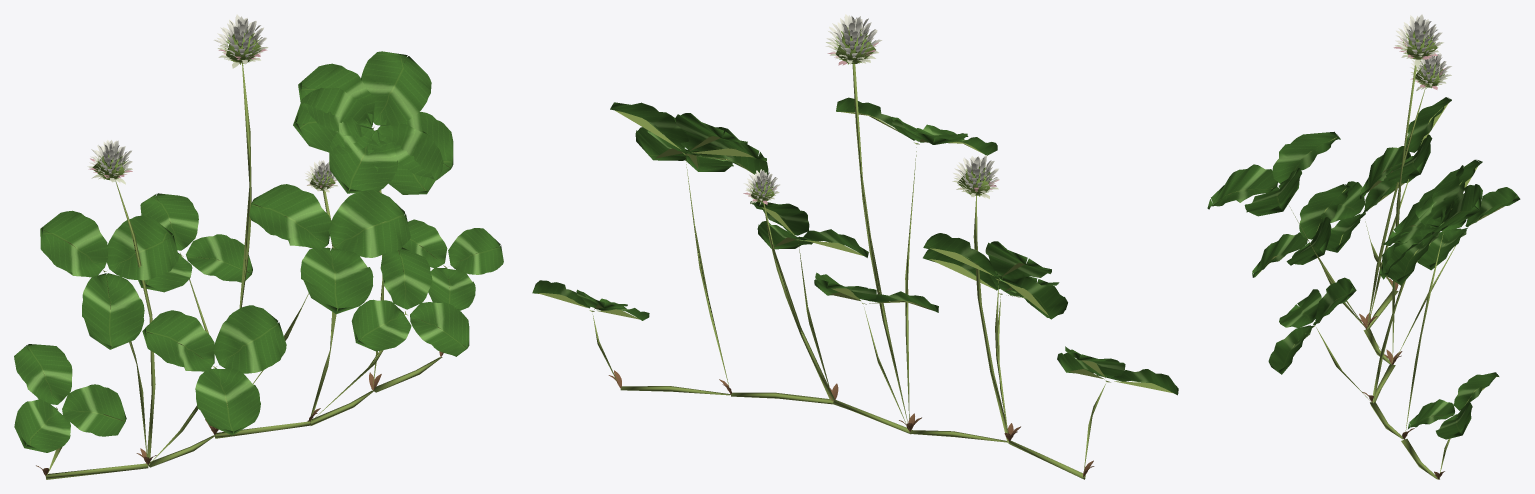
Rendered from white-clover.glb.
3 renders of one model, left to right at view 1: azimuth 30°, elevation 25°; view 2: azimuth 150°, elevation 25°; view 3: azimuth 270°, elevation 25°, orthographic. The views are drawn at different scales.
Parts seen in each view (by area): view 1: Trifoliate foliage, CloverLeafThree, CloverLeafFour, White pea-shaped florets, Flower peduncles, Creeping stolon, Leaf petioles, Flower receptacles; view 2: Trifoliate foliage, White pea-shaped florets, CloverLeafThree, Flower peduncles, CloverLeafFour, Leaf petioles, Creeping stolon, Flower receptacles; view 3: Trifoliate foliage, CloverLeafFour, CloverLeafThree, White pea-shaped florets, Flower peduncles, Leaf petioles, Creeping stolon, Flower receptacles, Papery stipules.
Part boxes in pixels (<box>): Trifoliate foliage: <box>14,184,503,452</box>; CloverLeafThree: <box>293,51,443,194</box>; CloverLeafFour: <box>298,63,453,193</box>; White pea-shaped florets: <box>87,14,337,192</box>; Flower peduncles: <box>115,63,336,464</box>; Creeping stolon: <box>45,357,442,479</box>; Leaf petioles: <box>47,190,384,474</box>; Flower receptacles: <box>92,33,335,190</box>; Trifoliate foliage: <box>532,97,1178,395</box>; White pea-shaped florets: <box>743,14,999,204</box>; CloverLeafThree: <box>610,102,766,171</box>; Flower peduncles: <box>763,64,1008,441</box>; CloverLeafFour: <box>635,113,768,174</box>; Leaf petioles: <box>592,147,1105,471</box>; Creeping stolon: <box>620,386,1085,479</box>; Flower receptacles: <box>751,33,989,202</box>; Trifoliate foliage: <box>1207,97,1520,439</box>; CloverLeafFour: <box>1383,159,1482,285</box>; CloverLeafThree: <box>1379,165,1482,279</box>; White pea-shaped florets: <box>1393,14,1451,90</box>; Flower peduncles: <box>1367,65,1425,403</box>; Leaf petioles: <box>1288,179,1455,477</box>; Creeping stolon: <box>1363,290,1439,479</box>; Flower receptacles: <box>1407,31,1439,87</box>; Papery stipules: <box>1359,277,1444,479</box>.
Bounding box in the file's own units: 0.2033 × 0.1425 × 0.109.
Materials: 7 (1 with a texture image).
